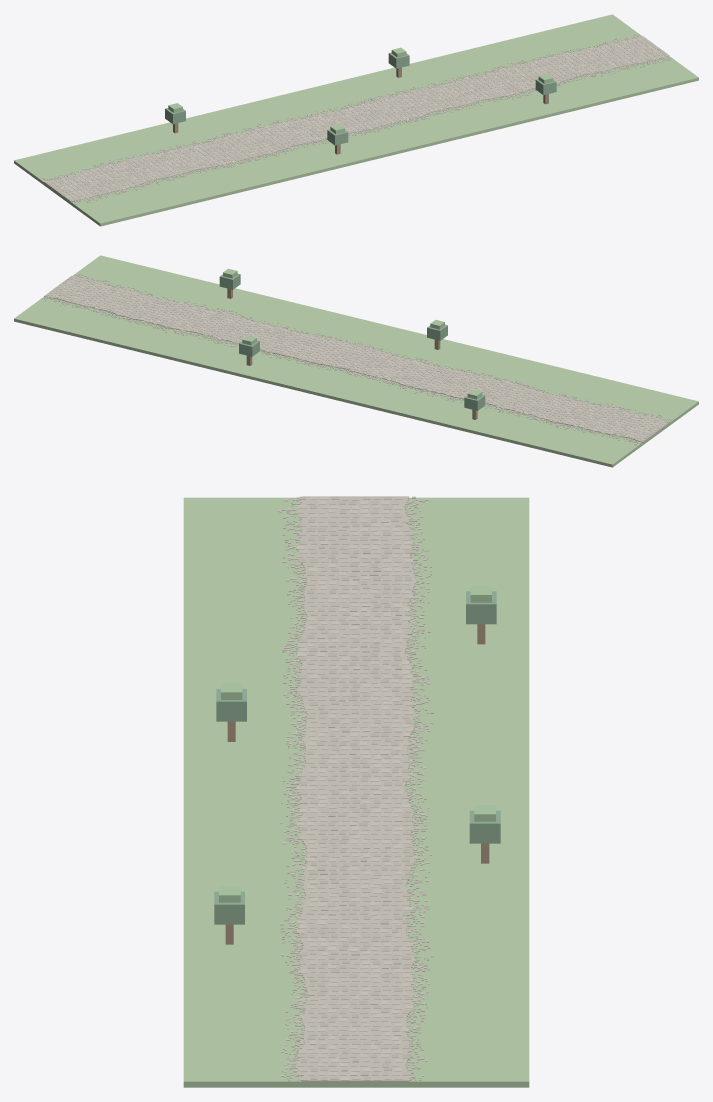
Rendered from cobblestone.glb.
3 views of the same model, one above another, from view 1: azimuth 30°, elevation 25°; view 2: azimuth 150°, elevation 25°; view 3: azimuth 270°, elevation 25° (orthographic). The views are drawn at different scales.
Visible parts, largest first — view 1: Terrain, Surface_detail, Path_base, Path_edge_particles, Trees; view 2: Terrain, Surface_detail, Path_base, Path_edge_particles, Trees; view 3: Terrain, Surface_detail, Path_base, Path_edge_particles, Trees.
Boxes of the visible parts, <box> form: Terrain: <box>14,14,698,226</box>; Surface_detail: <box>46,36,669,201</box>; Path_base: <box>44,35,667,201</box>; Path_edge_particles: <box>41,34,671,204</box>; Trees: <box>165,47,556,154</box>; Terrain: <box>14,255,698,467</box>; Surface_detail: <box>46,275,668,440</box>; Path_base: <box>44,277,668,442</box>; Path_edge_particles: <box>42,274,672,445</box>; Trees: <box>219,268,485,419</box>; Terrain: <box>183,497,529,1087</box>; Surface_detail: <box>296,496,413,1080</box>; Path_base: <box>298,496,415,1082</box>; Path_edge_particles: <box>278,496,433,1081</box>; Trees: <box>214,586,500,944</box>.
Size of the model in its own units: 72.05 by 3.39 by 18.
